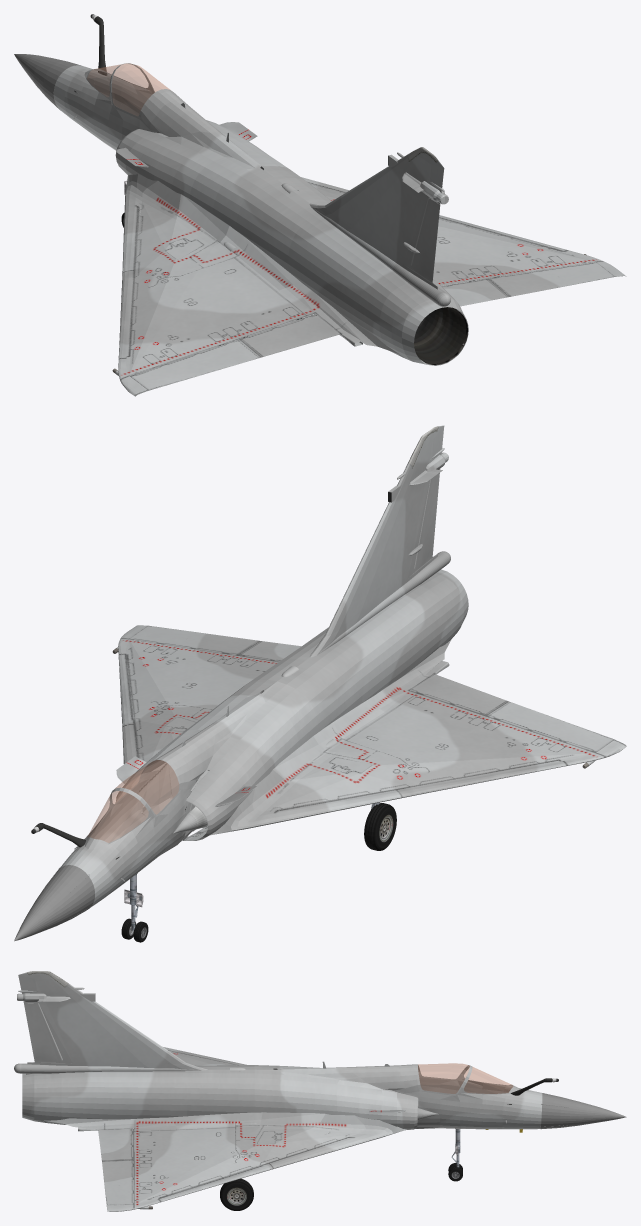
File: mirage2000.glb
3 renders of one model, top to bottom at view 1: azimuth 30°, elevation 25°; view 2: azimuth 150°, elevation 25°; view 3: azimuth 270°, elevation 25°, orthographic. The views are drawn at different scales.
Parts seen in each view (by area): view 1: airframe, aileron_l, nozzle, elevator_l, aileron_r, flap_l, canopy, rudder, elevator_r, flap_r; view 2: airframe, flap_l, aileron_l, aileron_r, canopy, elevator_l, flap_r, gear_roueG, rudder, elevator_r; view 3: airframe, flap_r, aileron_r, rudder, canopy, elevator_r, gear_roueD, canopy_frame.
Part boxes in pixels (x1,y1,x2,y2): airframe: [14, 14, 626, 396]; aileron_l: [130, 340, 258, 390]; nozzle: [414, 307, 467, 365]; elevator_l: [237, 314, 339, 357]; aileron_r: [490, 262, 614, 296]; flap_l: [118, 197, 141, 365]; canopy: [112, 63, 169, 115]; rudder: [411, 198, 440, 282]; elevator_r: [442, 278, 510, 306]; flap_r: [301, 177, 578, 254]; airframe: [14, 425, 626, 941]; flap_l: [257, 759, 578, 826]; aileron_l: [489, 702, 614, 752]; aileron_r: [130, 625, 258, 655]; canopy: [112, 760, 178, 814]; elevator_l: [410, 674, 510, 716]; flap_r: [118, 649, 138, 763]; gear_roueG: [364, 803, 396, 850]; rudder: [414, 469, 440, 569]; elevator_r: [236, 640, 301, 661]; airframe: [14, 971, 626, 1211]; flap_r: [151, 1135, 376, 1204]; aileron_r: [102, 1160, 134, 1204]; rudder: [24, 1003, 62, 1062]; canopy: [418, 1063, 469, 1093]; elevator_r: [98, 1128, 134, 1161]; gear_roueD: [220, 1178, 253, 1210]; canopy_frame: [412, 1064, 470, 1095].
Bounding box in the file's own units: 9.06 × 5.17 × 13.82.
Materials: 3 (2 with a texture image).
